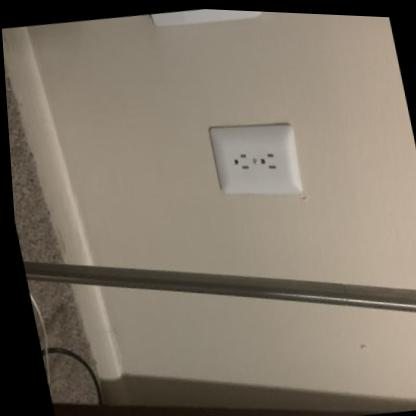OUTLET: (205, 114, 309, 206)
